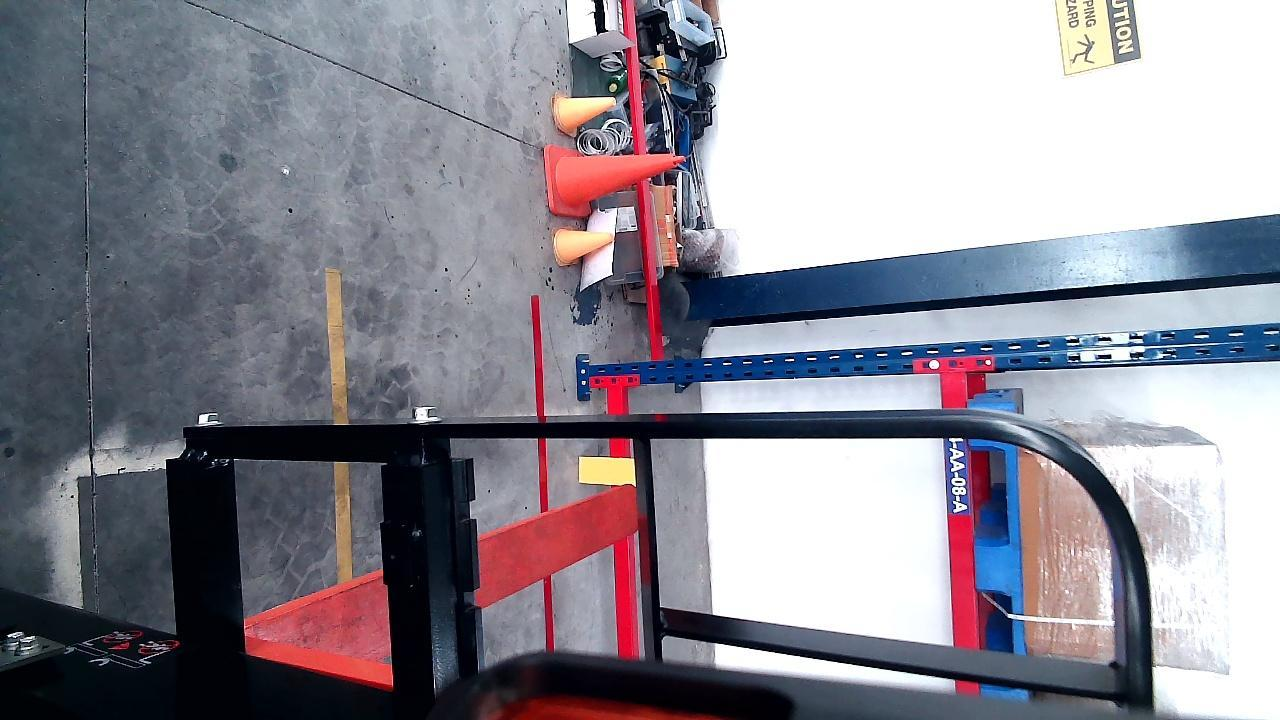red_line: (527, 292, 556, 651)
yellow_line: (326, 266, 358, 585)
